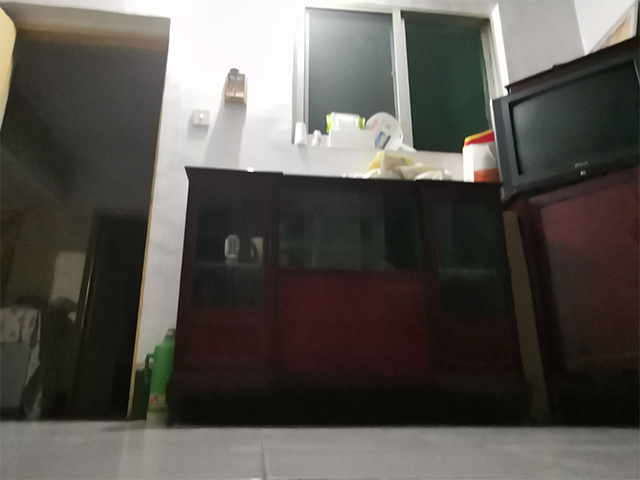cabinet: (162, 163, 639, 425)
